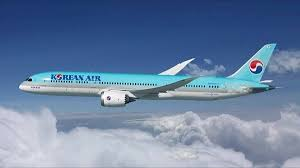maybay_dansu: (18, 44, 294, 111)
